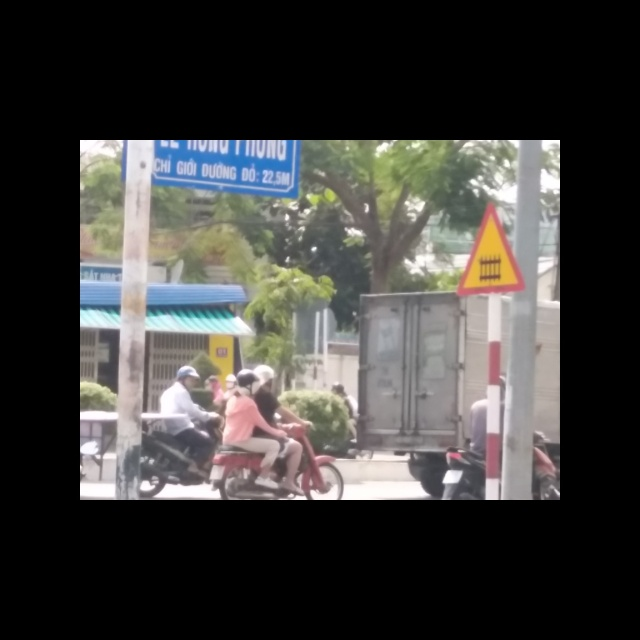Giao nhau với đường sắt có rào chắn: (458, 201, 526, 296)
